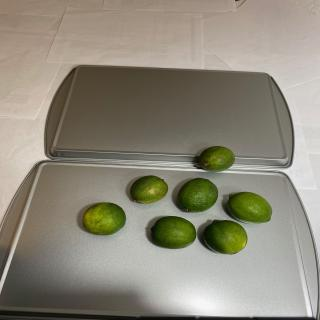Lemon: (202, 220, 248, 254), (150, 216, 197, 249), (226, 191, 272, 224), (82, 202, 126, 236), (177, 178, 218, 212), (130, 175, 168, 204)
